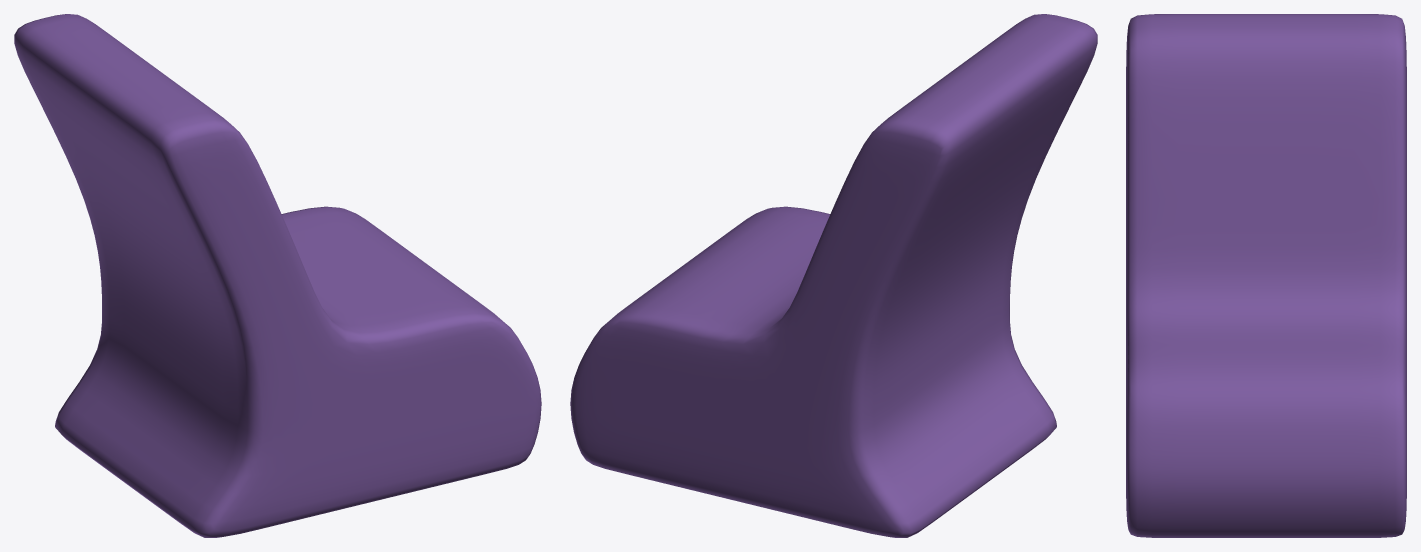
The model's file is soft_seat.fbx.
3 renders of one model, left to right at view 1: azimuth 30°, elevation 25°; view 2: azimuth 150°, elevation 25°; view 3: azimuth 270°, elevation 25°, orthographic. The views are drawn at different scales.
Visible parts, largest first — view 1: comfy seats; view 2: comfy seats; view 3: comfy seats.
Part boxes in pixels (x1,y1,x2,y2): comfy seats: (14, 14, 541, 537); comfy seats: (570, 14, 1097, 537); comfy seats: (1126, 14, 1406, 537).
Bounding box in the file's own units: 80.74 × 85.96 × 58.1.
